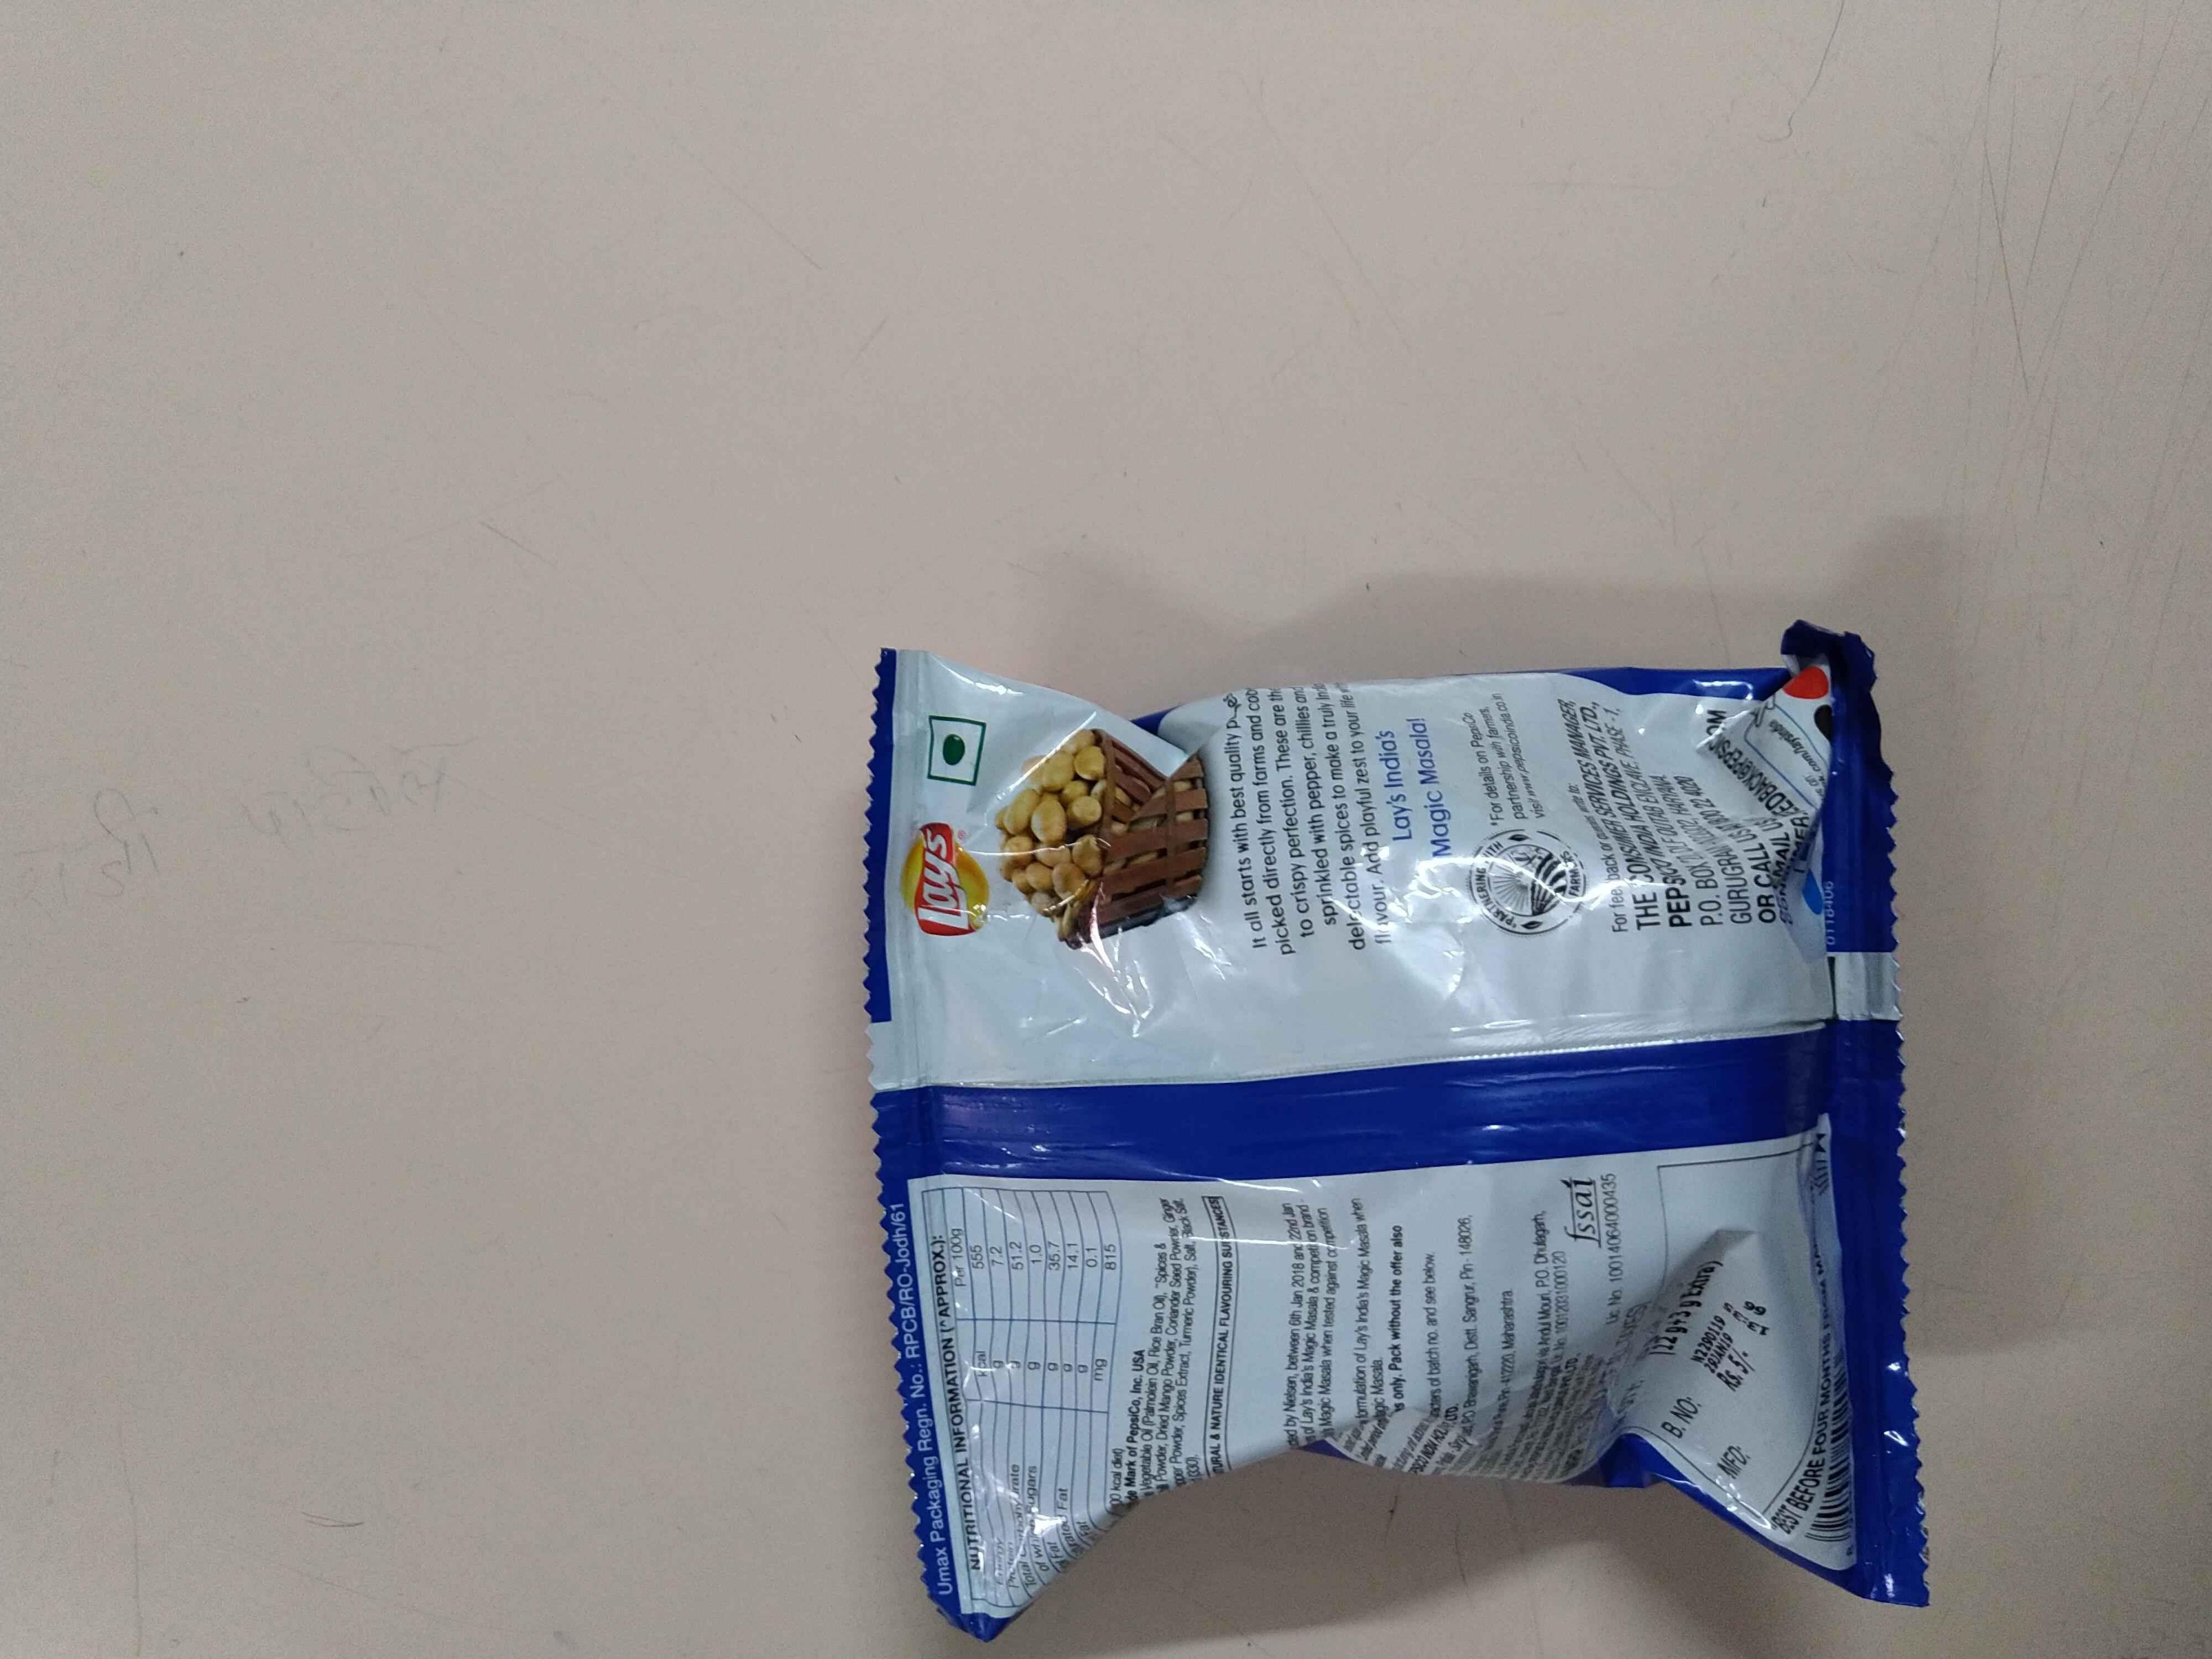Lays: (892, 809, 1000, 948)
